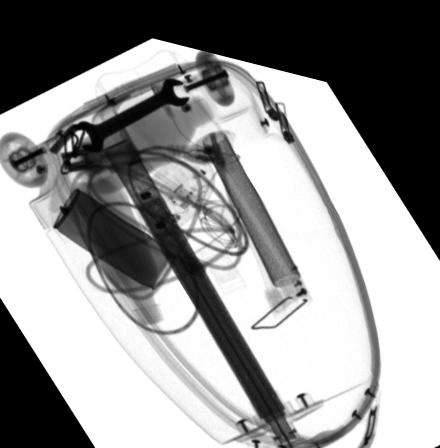Wrench: (71, 69, 189, 149)
